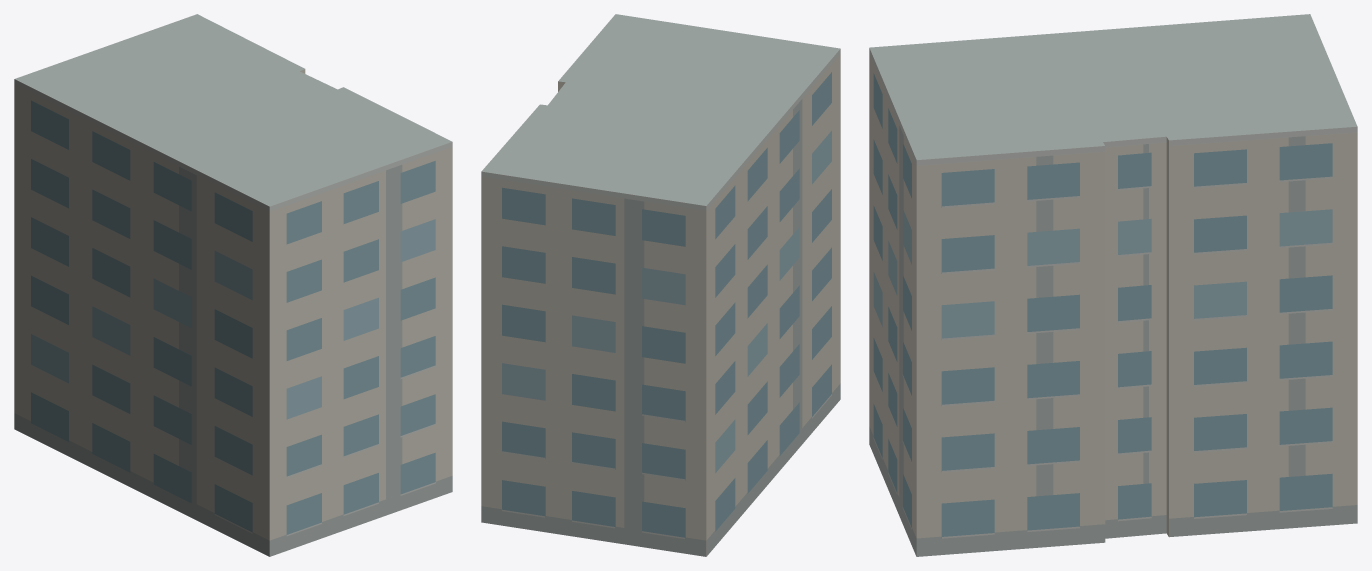
The model's file is survey-upis-32624666.glb.
3 views of the same model, side by side, from view 1: azimuth 30°, elevation 25°; view 2: azimuth 150°, elevation 25°; view 3: azimuth 270°, elevation 25° (orthographic). The views are drawn at different scales.
Visible parts, largest first — view 1: survey-upis-32624666.tmp; view 2: survey-upis-32624666.tmp; view 3: survey-upis-32624666.tmp.
Boxes of the visible parts, x1,y1,x2,y2 form: survey-upis-32624666.tmp: (14, 14, 452, 556); survey-upis-32624666.tmp: (481, 14, 840, 556); survey-upis-32624666.tmp: (869, 14, 1357, 556).
Size of the model in its own units: 13.4 by 16.95 by 18.92.
